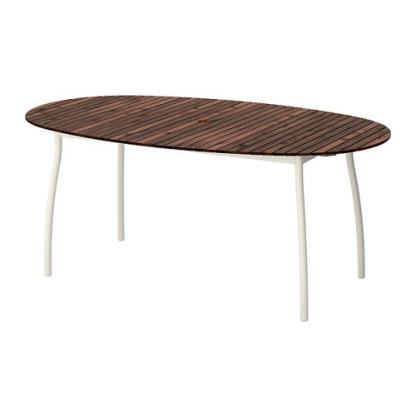Table: (20, 87, 394, 324)
